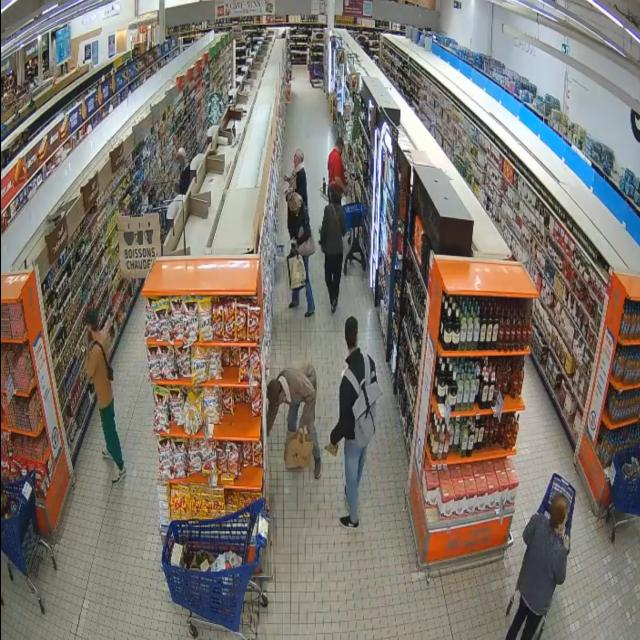article: (325, 443, 339, 457)
bags: (345, 354, 381, 447), (284, 429, 314, 468), (92, 341, 114, 381), (287, 254, 306, 289), (297, 234, 315, 257)
hands: (563, 534, 570, 550), (292, 243, 298, 254), (330, 443, 336, 452), (284, 176, 291, 183)
person: (506, 495, 569, 639), (86, 309, 126, 483), (267, 363, 321, 478), (330, 376, 367, 528), (320, 187, 346, 312), (288, 193, 311, 252), (285, 150, 308, 209), (328, 137, 346, 193)
